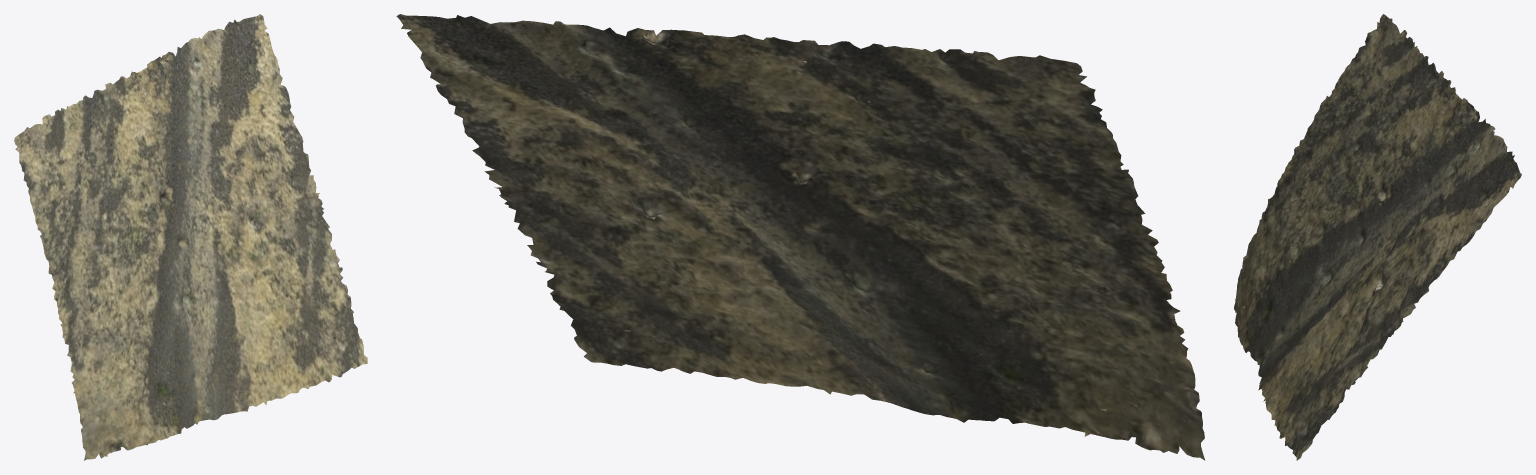
Rendered from tile_48.obj.
3 views of the same model, side by side, from view 1: azimuth 30°, elevation 25°; view 2: azimuth 150°, elevation 25°; view 3: azimuth 270°, elevation 25° (orthographic). The views are drawn at different scales.
Bounding box in the file's own units: 1.14 × 0.9498 × 0.8468.
1 material, 1 textured.
